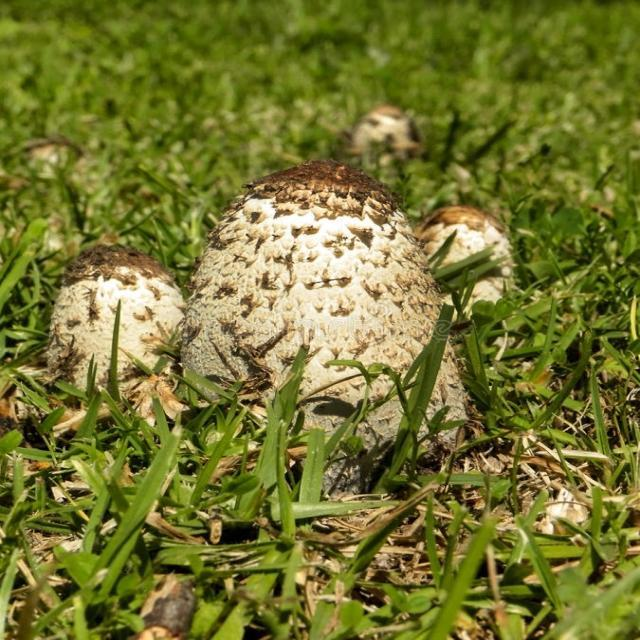Coprinus comatus: (187, 165, 473, 449), (44, 245, 187, 401), (422, 202, 517, 310)
